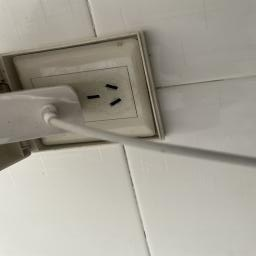outlet: (4, 14, 157, 179)
